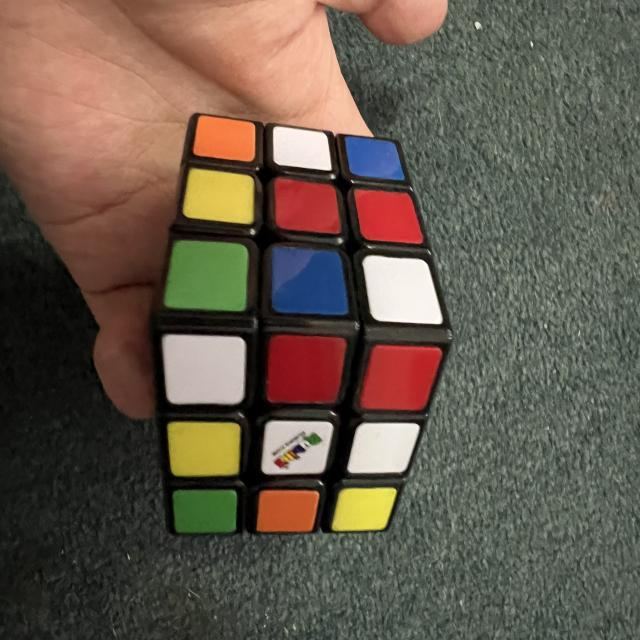blue: (269, 246, 351, 316), (341, 136, 408, 181)
center: (268, 177, 347, 236), (261, 419, 335, 477)
green: (163, 239, 250, 313), (172, 489, 238, 534)
orange: (192, 115, 259, 163), (256, 490, 320, 533)
red: (358, 343, 443, 414), (266, 334, 347, 404), (267, 176, 347, 237), (351, 188, 426, 244)
white: (160, 334, 247, 406), (359, 255, 446, 325), (261, 419, 335, 477), (348, 422, 419, 474), (268, 126, 336, 172)
yellow: (181, 166, 260, 227), (166, 421, 241, 478), (330, 486, 399, 532)
